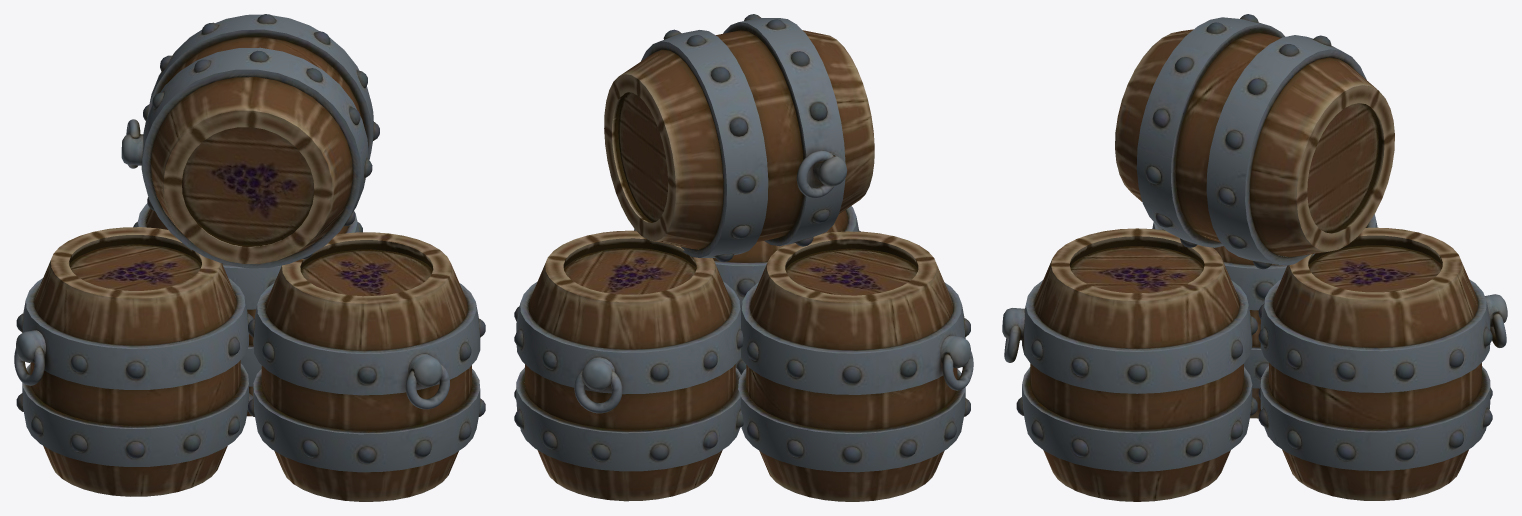
Rendered from barris_vila.glb.
3 renders of one model, left to right at view 1: azimuth 30°, elevation 25°; view 2: azimuth 150°, elevation 25°; view 3: azimuth 270°, elevation 25°, orthographic.
Visible parts, largest first — view 1: barrel_low.001, barrel_low.002, barrel_low.003, barrel_low; view 2: barrel_low.001, barrel_low.003, barrel_low, barrel_low.002; view 3: barrel_low.002, barrel_low.003, barrel_low, barrel_low.001.
Boxes of the visible parts, x1,y1,x2,y2 form: barrel_low.001: (14,227,253,496); barrel_low.002: (248,232,485,501); barrel_low.003: (121,14,379,268); barrel_low: (133,203,362,416); barrel_low.001: (738,231,973,501); barrel_low.003: (604,14,874,262); barrel_low: (514,230,743,501); barrel_low.002: (634,206,860,374); barrel_low.002: (1002,228,1257,501); barrel_low.003: (1115,14,1394,269); barrel_low: (1258,227,1507,500); barrel_low.001: (1152,214,1377,418).
Size of the model in its own units: 5.78 by 5.76 by 6.46.
Materials: 1 (1 with a texture image).
